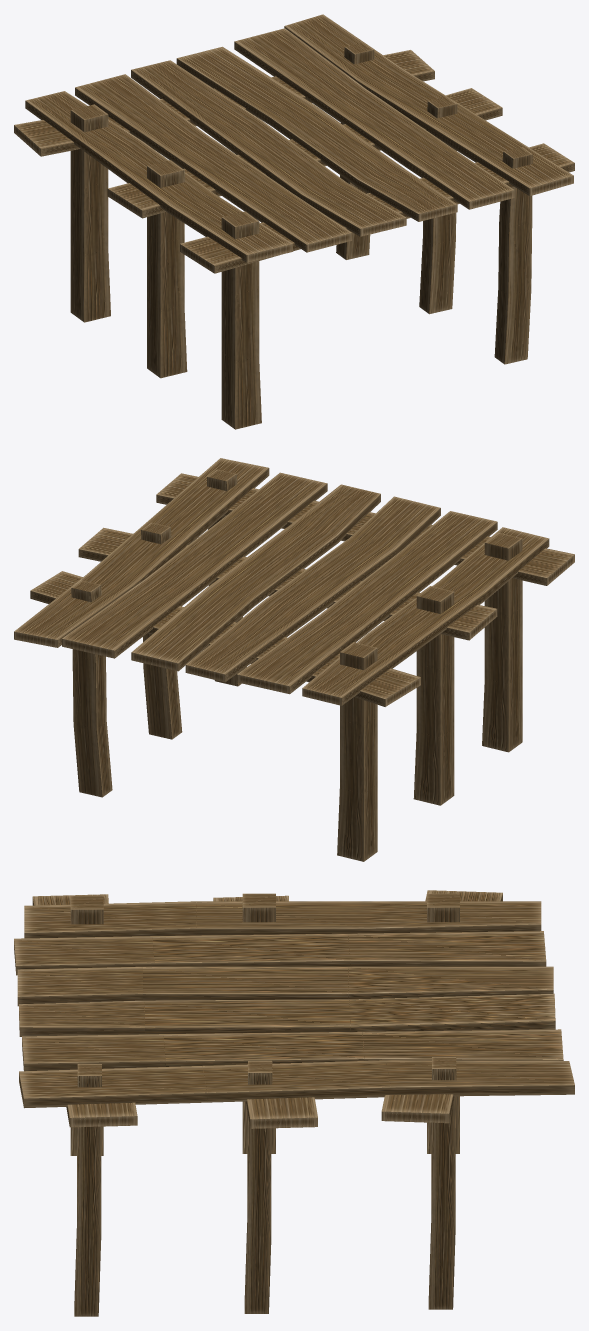
File: platform_planks.fbx
The picture shows the model from 3 angles, top to bottom: view 1: azimuth 30°, elevation 25°; view 2: azimuth 150°, elevation 25°; view 3: azimuth 270°, elevation 25°; orthographic projection. The views are drawn at different scales.
Parts seen in each view (by area): view 1: Default_Layer; view 2: Default_Layer; view 3: Default_Layer.
Boxes of the visible parts, x1=… form: Default_Layer: x1=14, y1=14, x2=574, y2=429; Default_Layer: x1=14, y1=458, x2=574, y2=861; Default_Layer: x1=14, y1=890, x2=574, y2=1316.
Bounding box in the file's own units: 390 × 197 × 404.
